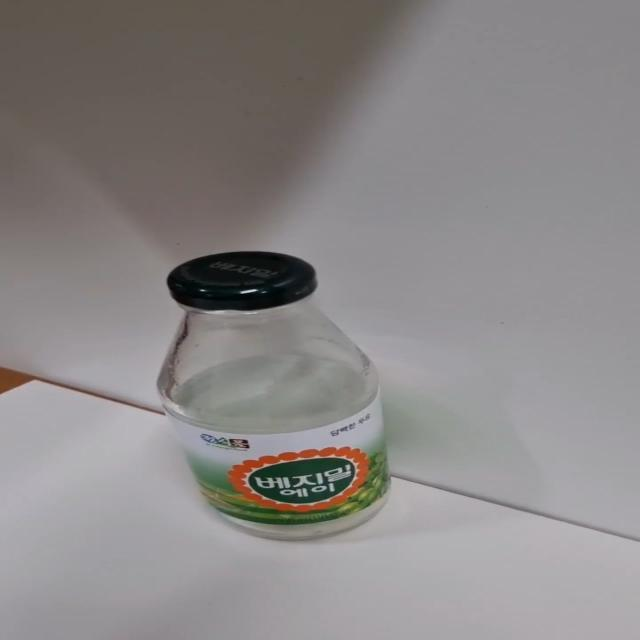Glass: (155, 252, 392, 544)
